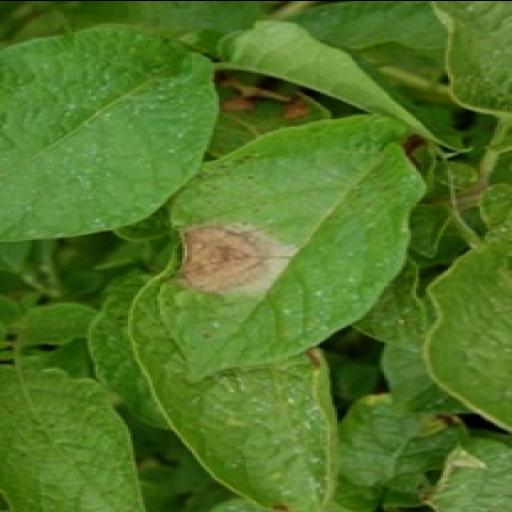disease_tomato: (155, 104, 431, 380)
